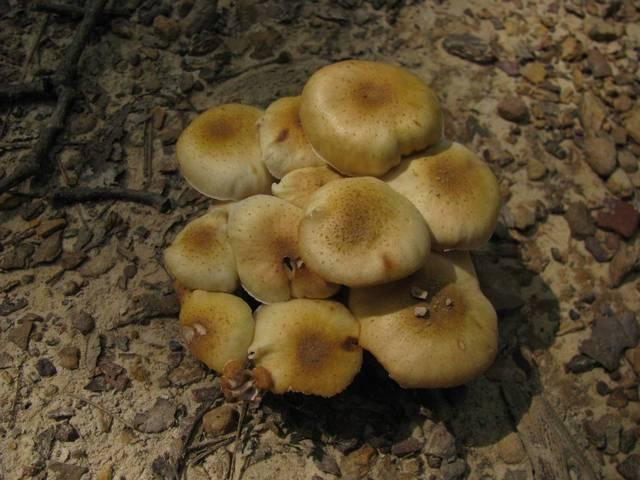edible_mushroom: (162, 57, 503, 400)
